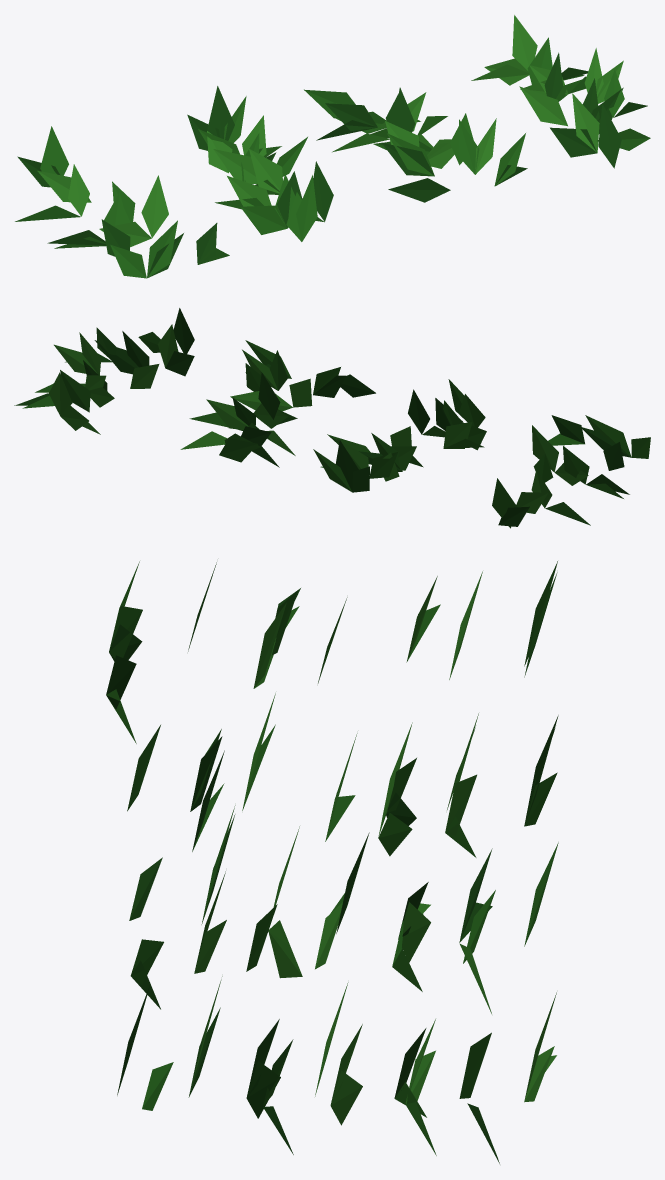
3 views of the same model, one above another, from view 1: azimuth 30°, elevation 25°; view 2: azimuth 150°, elevation 25°; view 3: azimuth 270°, elevation 25° (orthographic). The views are drawn at different scales.
Parts seen in each view (by area): view 1: r20c1_l00; view 2: r20c1_l00; view 3: r20c1_l00.
Part boxes in pixels (box(x1,y1,x2,y2)): r20c1_l00: box(15, 15, 650, 278); r20c1_l00: box(14, 308, 650, 528); r20c1_l00: box(106, 561, 558, 1163).
Size of the model in its own units: 1.8 by 0.2062 by 0.6229.
